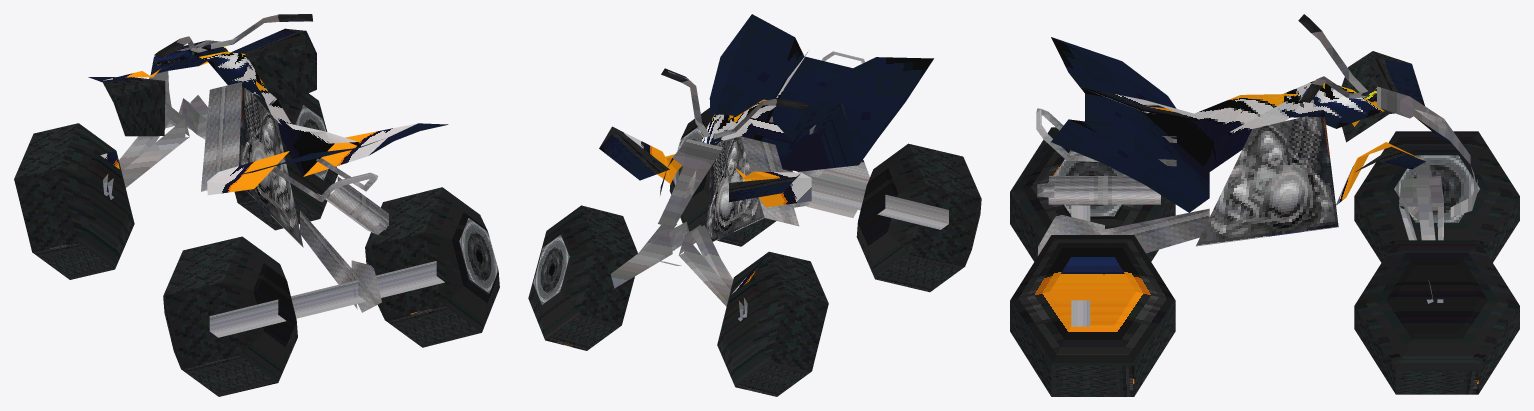
Rendered from ps2_save-icons_atvquadpowerracing2-records.glb.
3 views of the same model, side by side, from view 1: azimuth 30°, elevation 25°; view 2: azimuth 150°, elevation 25°; view 3: azimuth 270°, elevation 25° (orthographic). The views are drawn at different scales.
Visible parts, largest first — view 1: ATV.ICO; view 2: ATV.ICO; view 3: ATV.ICO.
Part boxes in pixels (bbox=[...]): ATV.ICO: bbox=[14, 14, 499, 396]; ATV.ICO: bbox=[528, 14, 981, 396]; ATV.ICO: bbox=[1010, 14, 1519, 396].
Bounding box in the file's own units: 2.53 × 2.04 × 3.44.
Materials: 1 (1 with a texture image).
